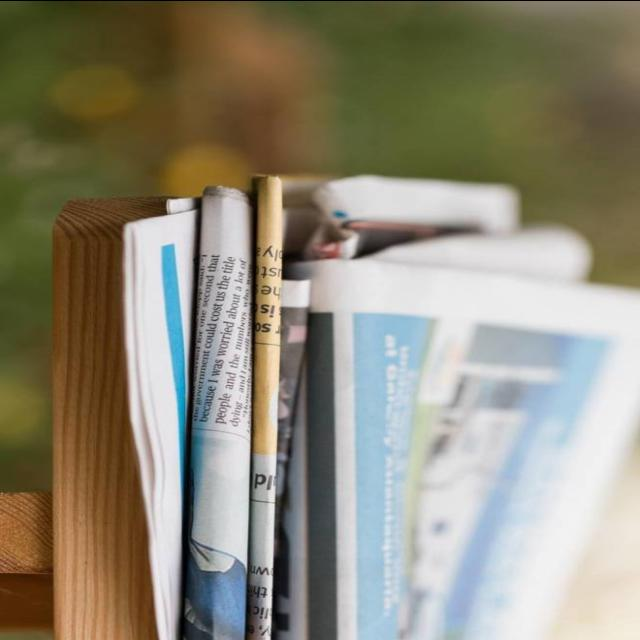newspaper: (124, 173, 640, 640)
